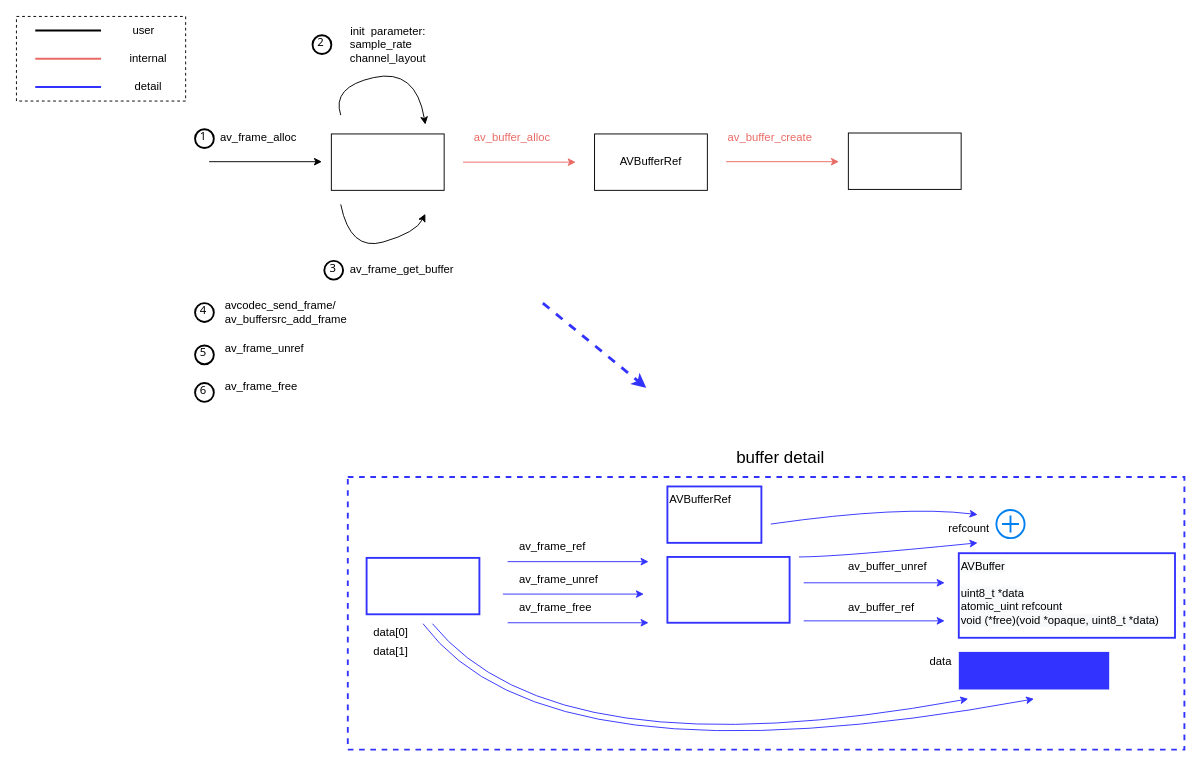
The diagram is 1201 pixels wide and 767 high, and some of its shapes have lost their labels. The shapes that lost their labels are listed below. From the top down, each one's centre as x and y in pixels, then its label:
At pixel 387 161: "AVFrame".
At pixel 904 160: "AVBuffer".
At pixel 422 585: "AVFrame AVBufferRef *buf[] uint8_t *data[]".
At pixel 728 589: "AVBufferRef AVBuffer *buffer uint8_t *data".
